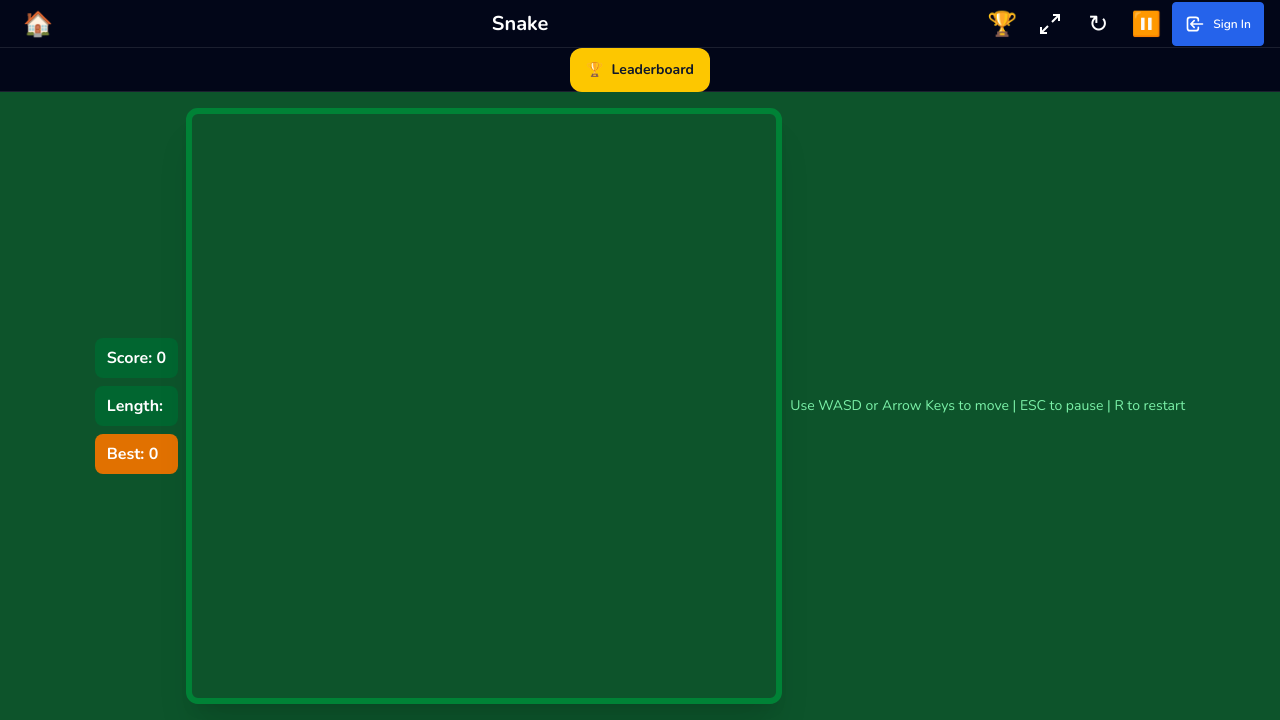
Test: SnakeGameShell pause wiring › holds the walls setting in the pause menu (it sat in a Settings panel two screens under the board)
Expected: the text "🧱 Walls: wrap around" is not shown
Press Escape
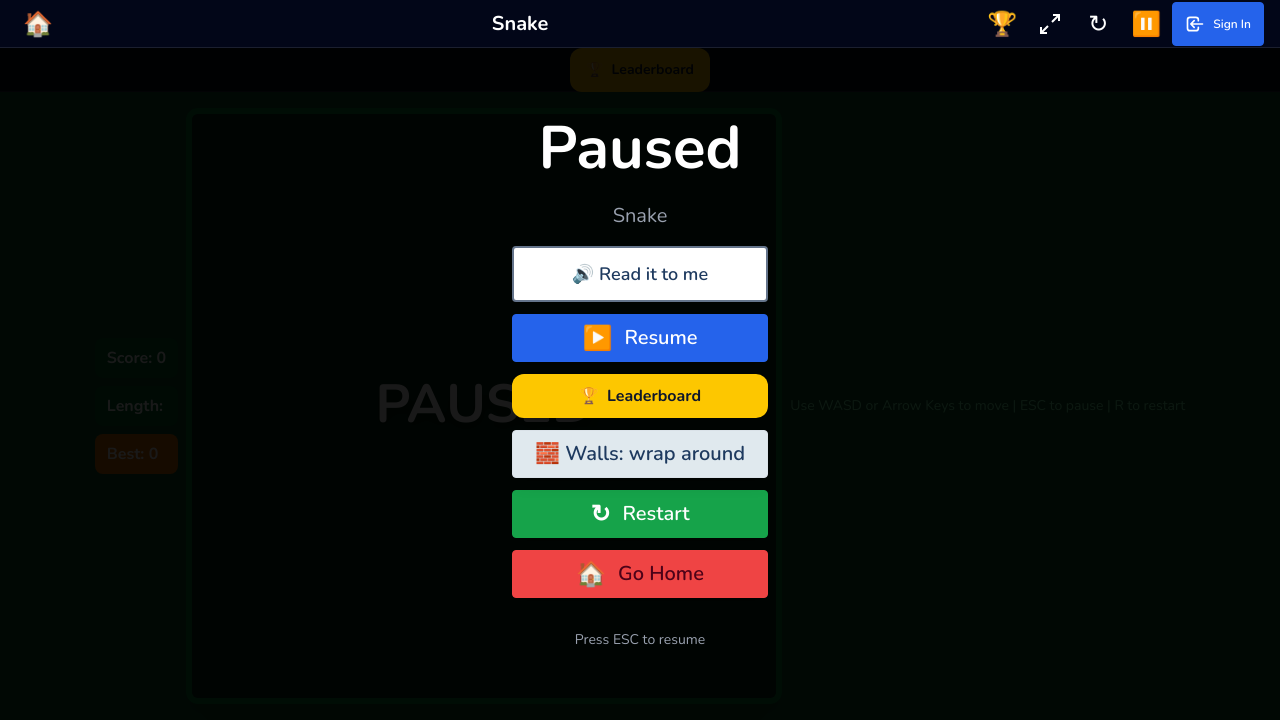
Click the button "🧱 Walls: wrap around": (640,454) x1=512 y1=430 x2=768 y2=478
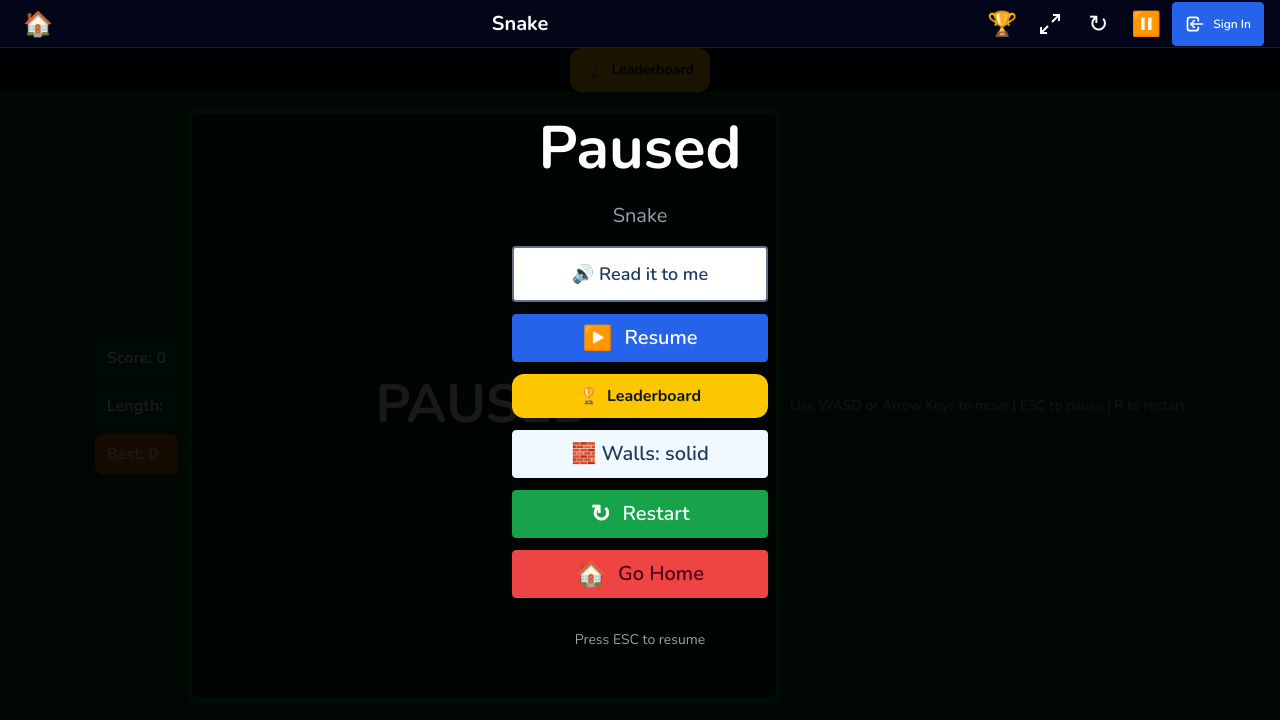
Now the button "🧱 Walls: solid" is shown, box x1=512 y1=430 x2=768 y2=478
